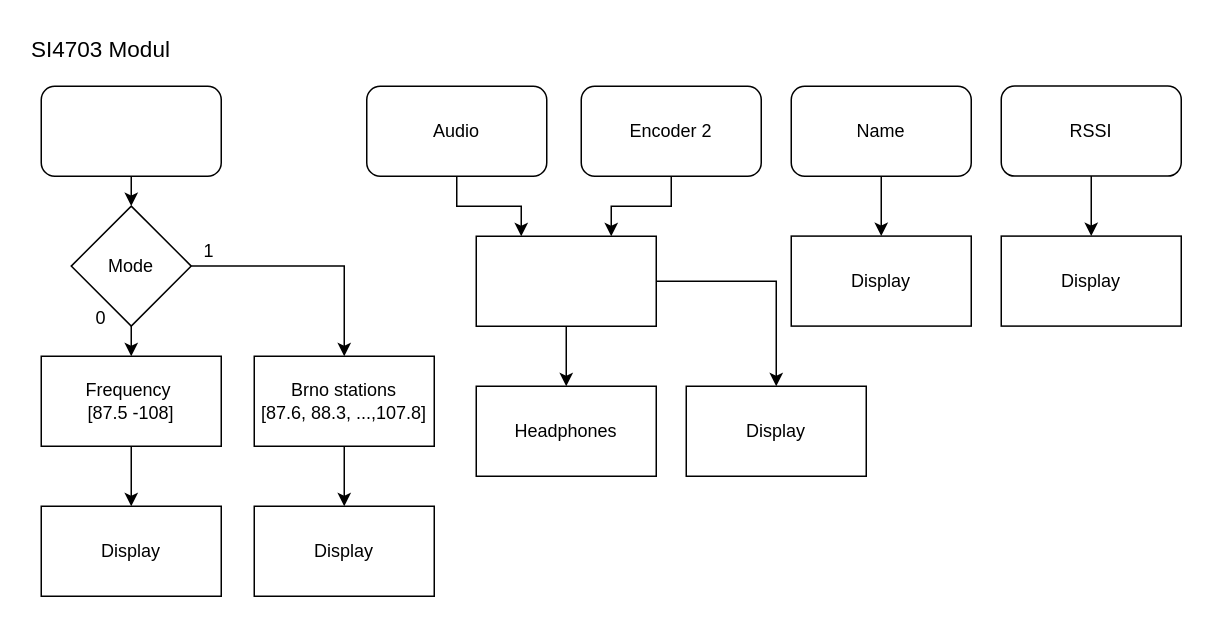
Some shapes in this 1208 by 623 pixel diagram are drawn without their labels. The shapes that lost their labels are listed below. From the top down, each one's centre as x and y in pixels, then its label:
pixel 130 130: Encoder 1
pixel 565 280: Volume
